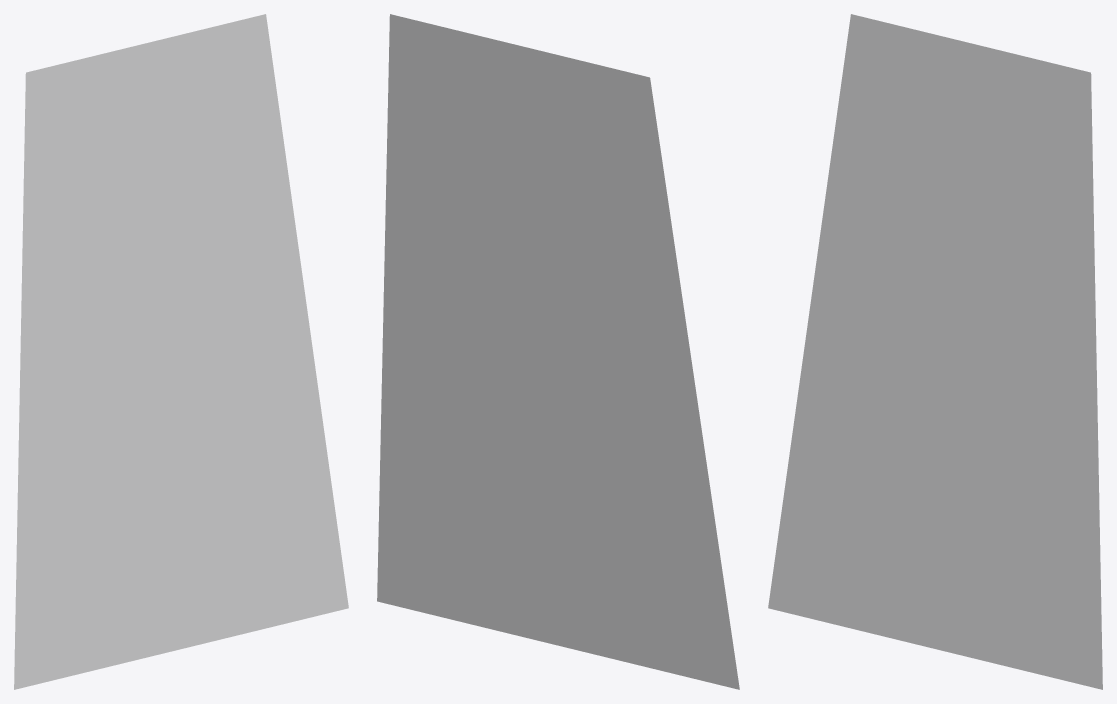
Rendered from CryoGlass.glb.
3 views of the same model, side by side, from view 1: azimuth 30°, elevation 25°; view 2: azimuth 150°, elevation 25°; view 3: azimuth 330°, elevation 25° (orthographic). The views are drawn at different scales.
Visible parts, largest first — view 1: CryoGlass; view 2: CryoGlass; view 3: CryoGlass.
Boxes of the visible parts, x1,y1,x2,y2 form: CryoGlass: [14, 14, 348, 689]; CryoGlass: [377, 14, 739, 689]; CryoGlass: [768, 14, 1102, 689].
Size of the model in its own units: 1.44 by 2.38 by 0.2643.
1 material, 1 textured.
